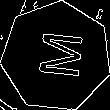M_W: (29, 31, 84, 82)
